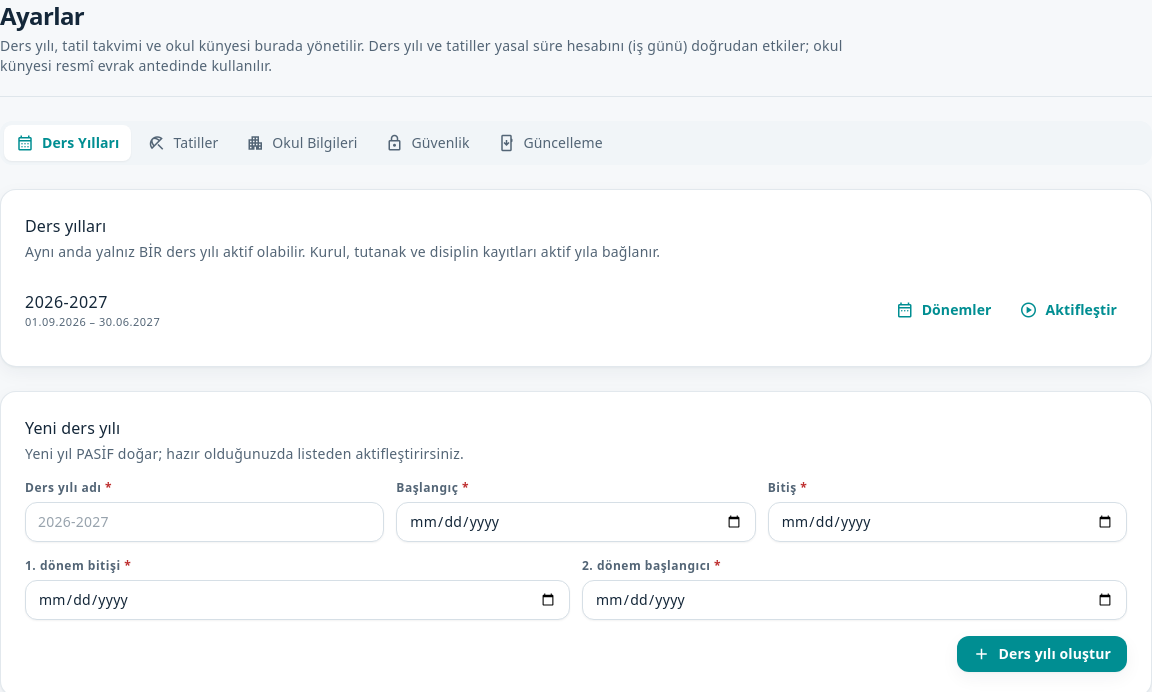
AyarlarPage — tatiller › aktif ders yılı yoksa seed hatası bantta gösterilir
Expected: the text "2026-2027" is shown, [25,291,108,313]
Click the tab "Tatiller" at (183, 143), box [135,125,230,161]
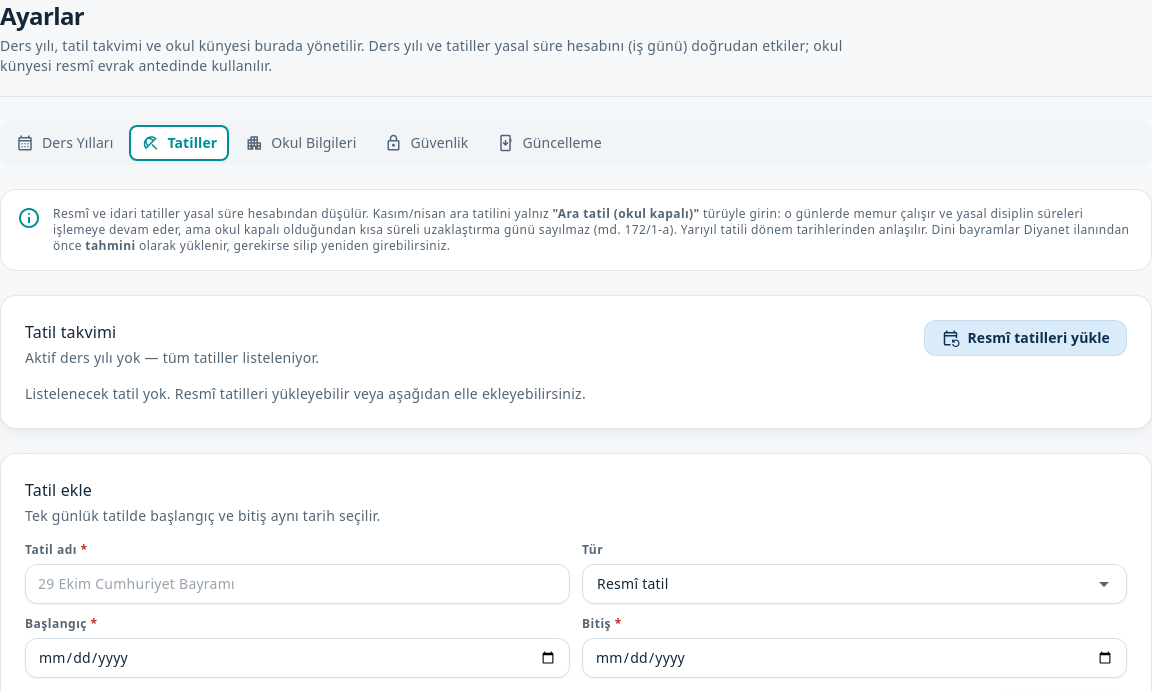
Click the button "Resmî tatilleri yükle" at (1026, 338), box [924,320,1127,356]
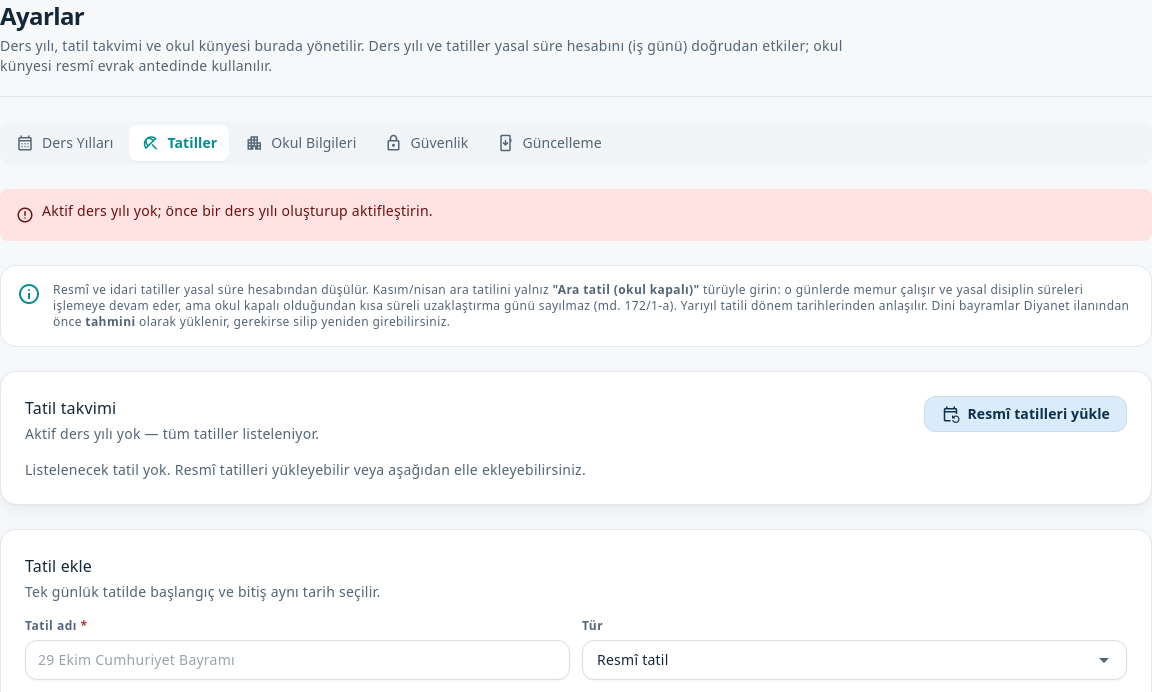
Expected: the text "Aktif ders yılı yok; önce bir ders yılı oluşturup aktifleştirin." is shown, [42,201,433,221]
